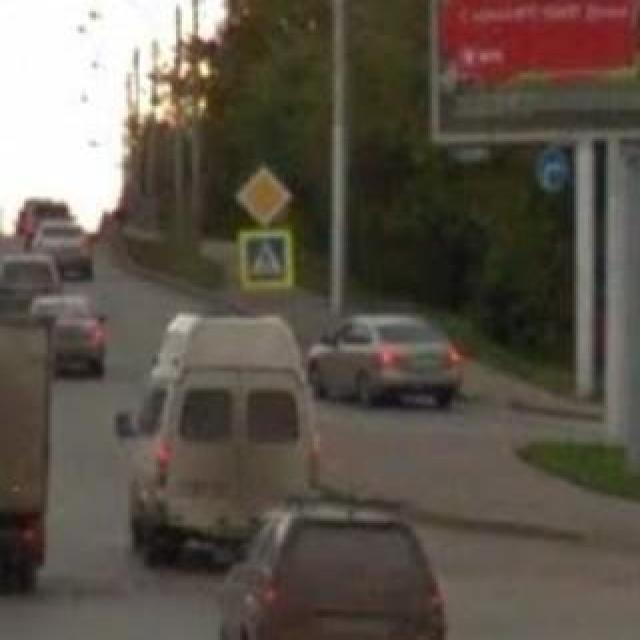Droga z pierwszenstwem: (232, 163, 296, 230)
Przejscie dla pieszych: (232, 223, 302, 293)
